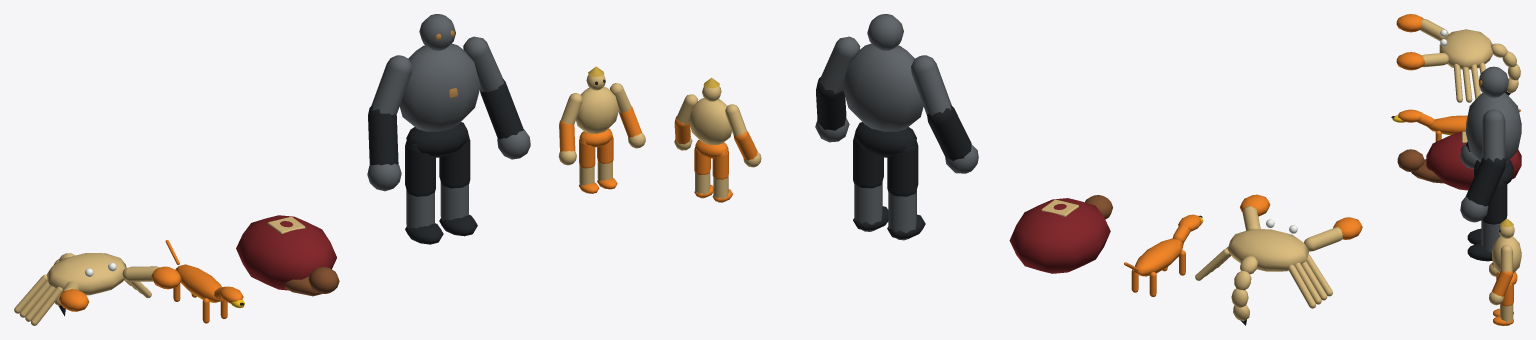
Rendered from ember.glb.
3 views of the same model, side by side, from view 1: azimuth 30°, elevation 25°; view 2: azimuth 150°, elevation 25°; view 3: azimuth 270°, elevation 25° (orthographic). The views are drawn at different scales.
Parts seen in each view (by area): view 1: torso (×2), shell, body (×2), arm_lower_R (×2), arm_lower_L (×2), arm_upper_R (×2), head (×2), leg_lower_R, leg_lower_L, leg_upper_R, pelvis, arm_upper_L (+4 smaller); view 2: torso (×2), shell, body (×2), arm_lower_R (×2), arm_lower_L, arm_upper_R, leg_upper_R, pelvis, leg_lower_R, leg_lower_L, arm_upper_L, leg_upper_L (+4 smaller); view 3: torso (×2), body (×3), arm_lower_L (×2), shell, head (×3), arm_upper_L (×2), leg_lower_L (×2), leg_upper_L (×2), claw_L, claw_R, joint_neck, arm_lower_R (+9 smaller).
Part boxes in pixels (x1,y1,x2,y2): torso (×2): [399, 43, 618, 133]; shell: [236, 215, 336, 290]; body (×2): [46, 253, 222, 302]; arm_lower_R (×2): [367, 105, 576, 191]; arm_lower_L (×2): [480, 79, 645, 159]; arm_upper_R (×2): [371, 55, 582, 124]; head (×2): [308, 14, 455, 293]; leg_lower_R: [405, 190, 443, 244]; leg_lower_L: [439, 182, 477, 236]; leg_upper_R: [405, 138, 435, 196]; pelvis: [406, 122, 468, 157]; arm_upper_L: [463, 36, 504, 91]; torso (×2): [689, 43, 923, 144]; shell: [1009, 198, 1110, 273]; body (×2): [1134, 219, 1309, 276]; arm_lower_R (×2): [734, 105, 978, 173]; arm_lower_L: [815, 77, 849, 142]; arm_upper_R: [911, 55, 951, 115]; leg_upper_R: [887, 138, 918, 196]; pelvis: [854, 122, 916, 157]; leg_lower_R: [887, 190, 925, 240]; leg_lower_L: [853, 182, 888, 231]; arm_upper_L: [819, 36, 860, 93]; leg_upper_L: [853, 130, 883, 188]; torso (×2): [1466, 92, 1521, 273]; body (×3): [1411, 29, 1492, 183]; arm_lower_L (×2): [1460, 158, 1513, 305]; shell: [1426, 131, 1521, 190]; head (×3): [1397, 66, 1514, 238]; arm_upper_L (×2): [1482, 109, 1512, 272]; leg_lower_L (×2): [1467, 220, 1513, 325]; leg_upper_L (×2): [1482, 179, 1513, 306]; claw_L: [1396, 52, 1449, 70]; claw_R: [1396, 14, 1448, 41]; joint_neck: [1391, 109, 1434, 126]; arm_lower_R: [1460, 142, 1477, 168].
Size of the model in its own units: 99 by 32.67 by 20.81.
